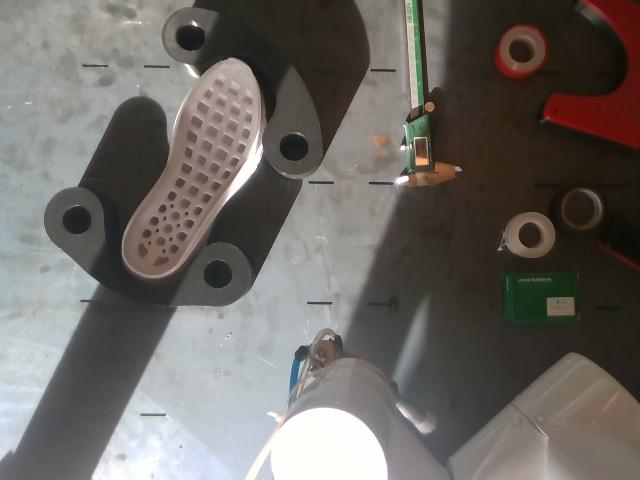shoes: (124, 58, 260, 275)
